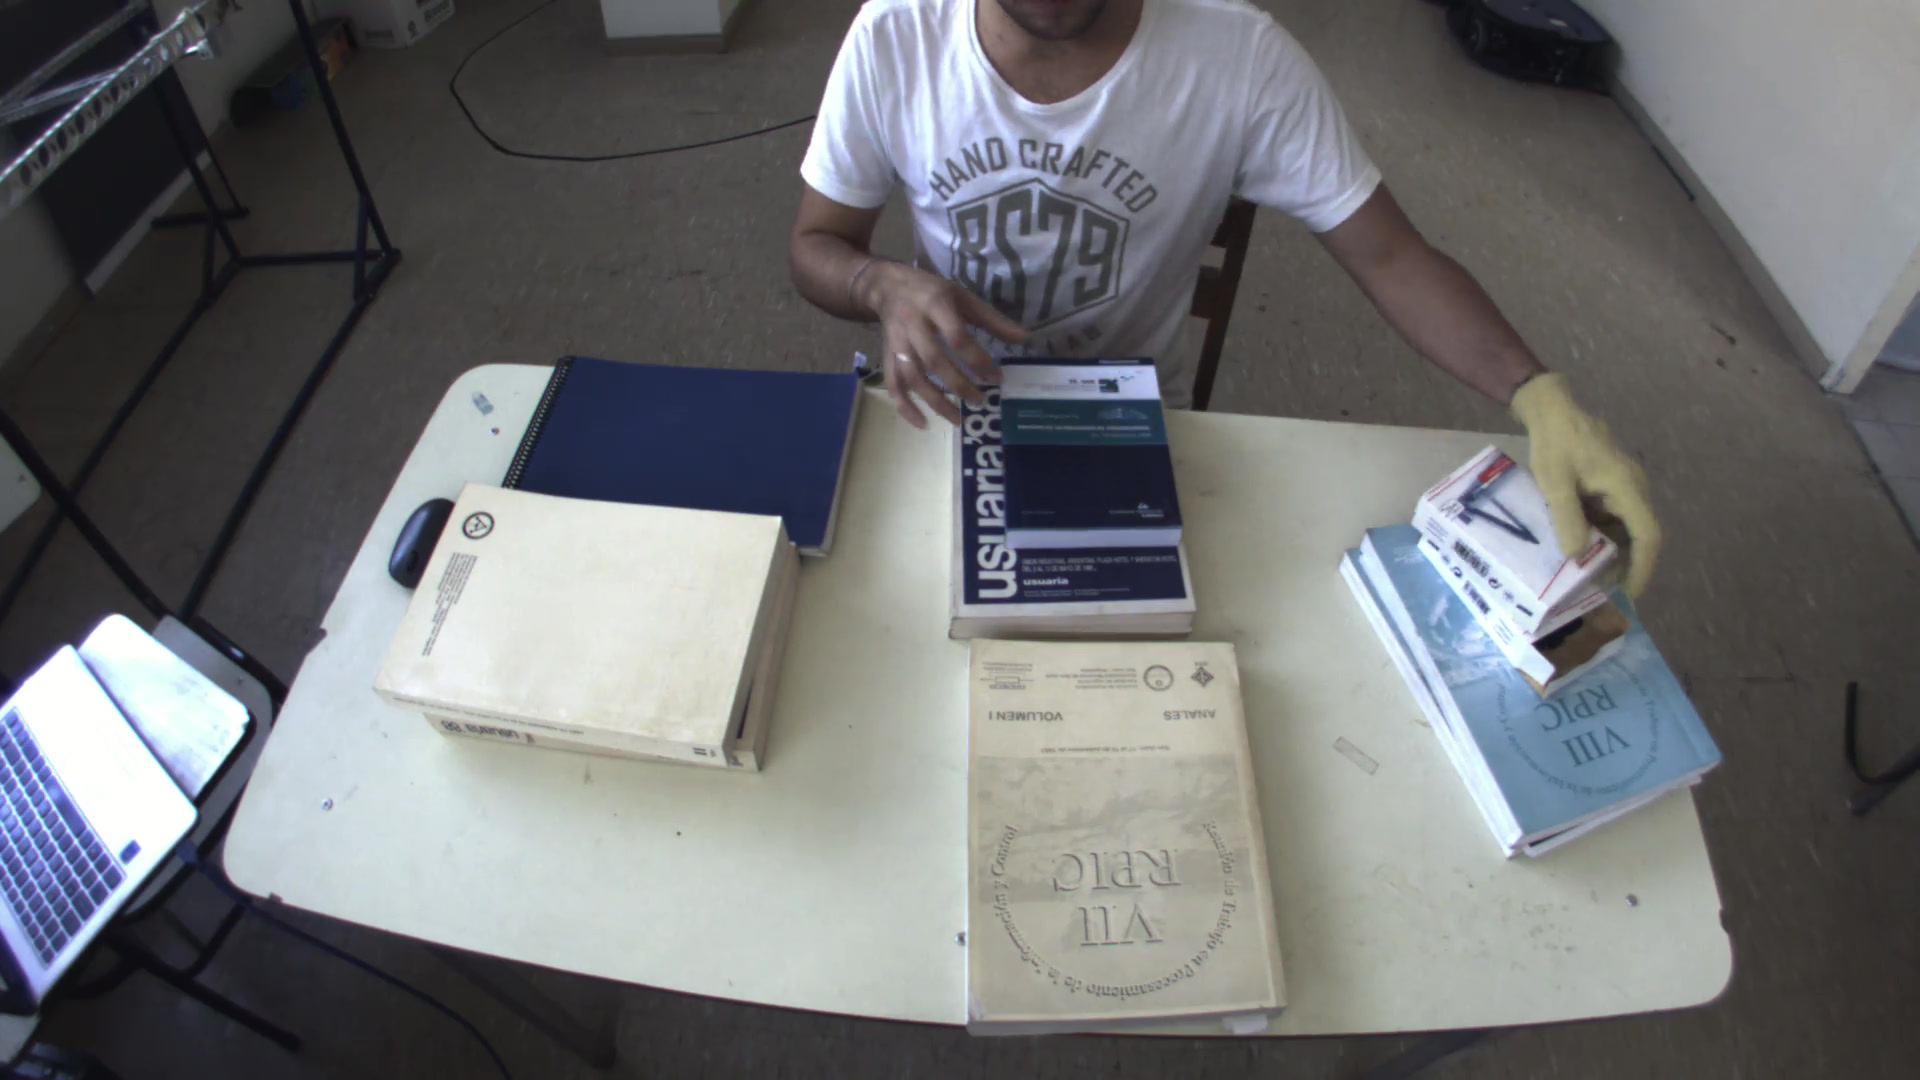hand: (1498, 367, 1675, 587), (851, 253, 1058, 426)
